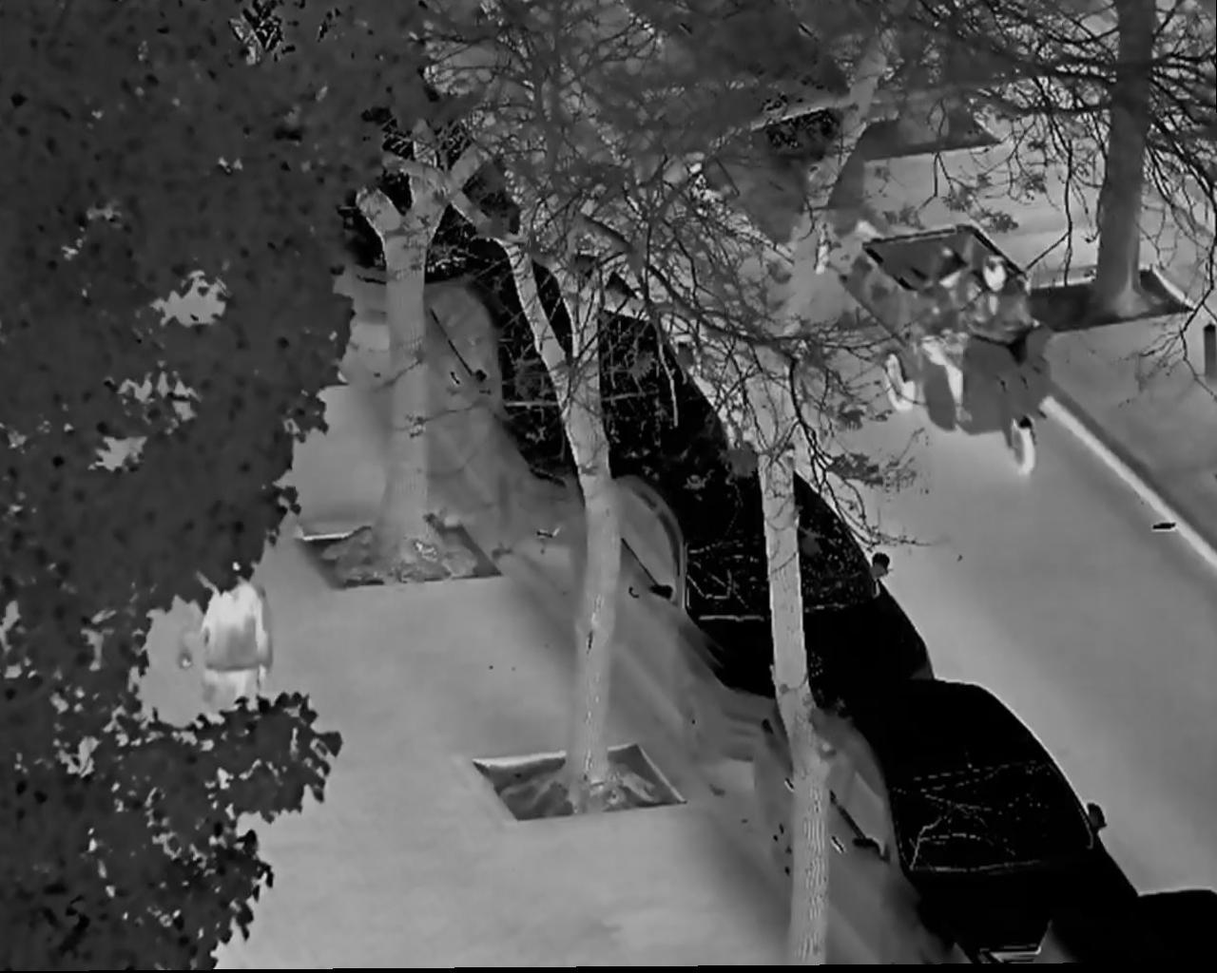person: (172, 547, 277, 738), (962, 256, 1050, 411), (904, 258, 990, 415)
